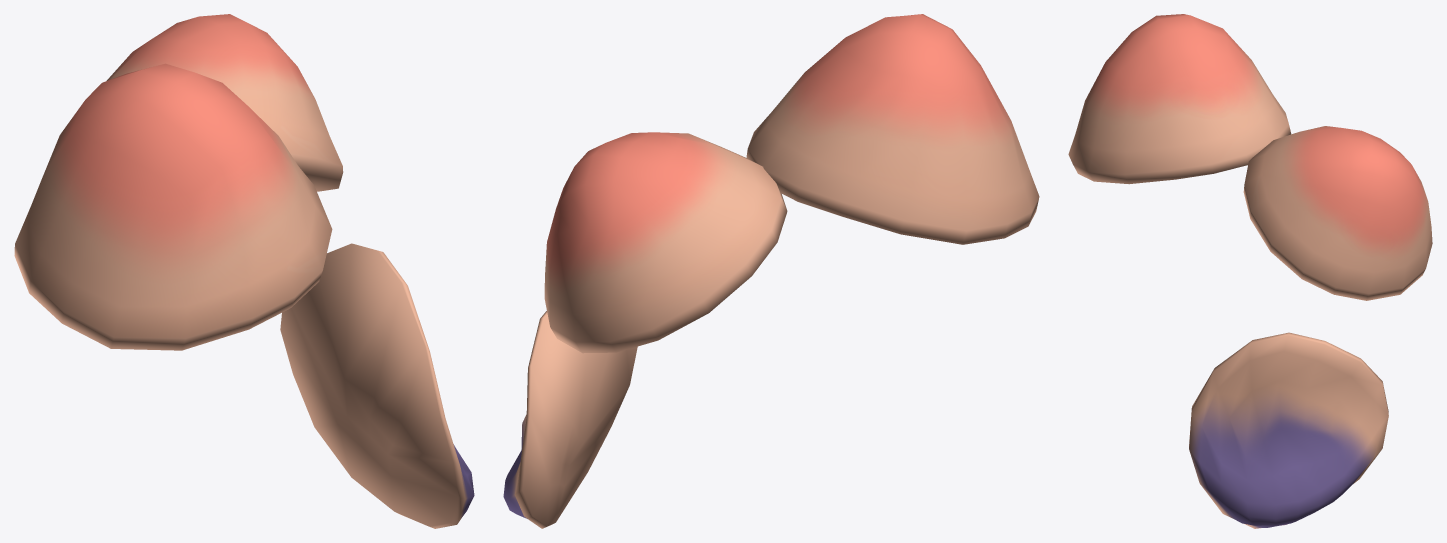
File: Hero-Bumps-hitting-Animation.fbx
3 views of the same model, side by side, from view 1: azimuth 30°, elevation 25°; view 2: azimuth 150°, elevation 25°; view 3: azimuth 270°, elevation 25° (orthographic). The views are drawn at different scales.
Parts seen in each view (by area): view 1: Roundcube.002, Roundcube.001, Roundcube; view 2: Roundcube.002, Roundcube, Roundcube.001; view 3: Roundcube.001, Roundcube.002, Roundcube.
Boxes of the visible parts, box(x1,y1,x2,y2) form: Roundcube.002: box(14, 63, 332, 350); Roundcube.001: box(280, 243, 474, 528); Roundcube: box(106, 14, 343, 191); Roundcube.002: box(746, 14, 1039, 244); Roundcube: box(544, 132, 787, 353); Roundcube.001: box(503, 311, 637, 528); Roundcube.001: box(1189, 332, 1388, 528); Roundcube.002: box(1068, 14, 1291, 184); Roundcube: box(1243, 126, 1432, 300).
Size of the model in its own units: 110 by 125 by 104.
3 materials, 3 textured.
